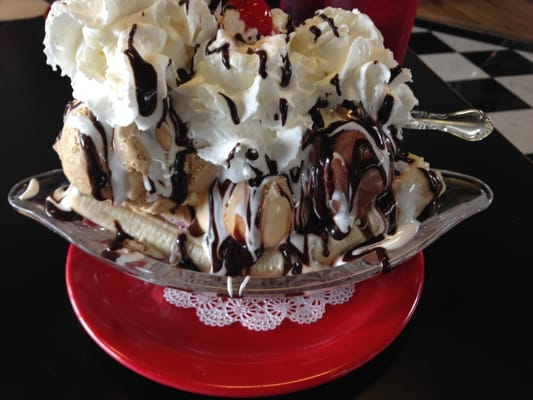sushi: (18, 0, 508, 396)
